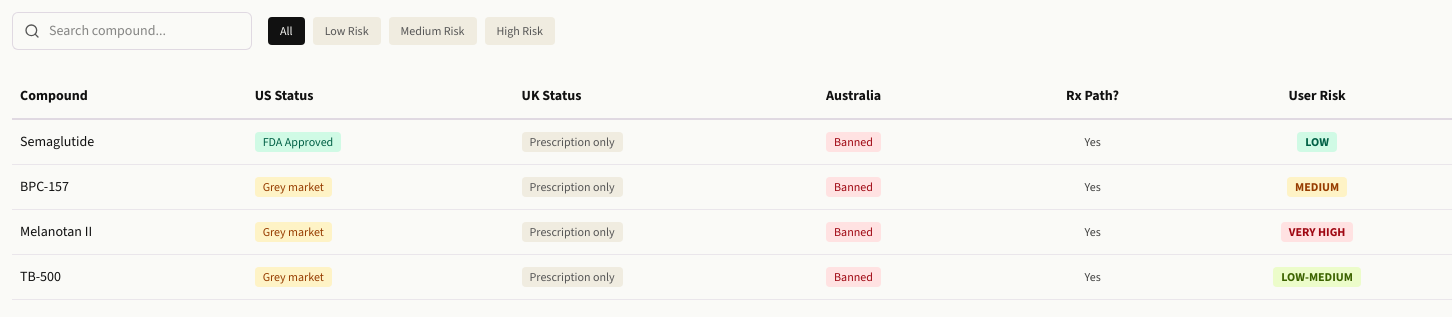
Scenario: PeptideLegalTable › searches by compound name and shows an empty state
The width and height of the screenshot is (1452, 317).
In the field with placeholder "Search compound...": (132, 31) [12,12,252,50], type "bpc"
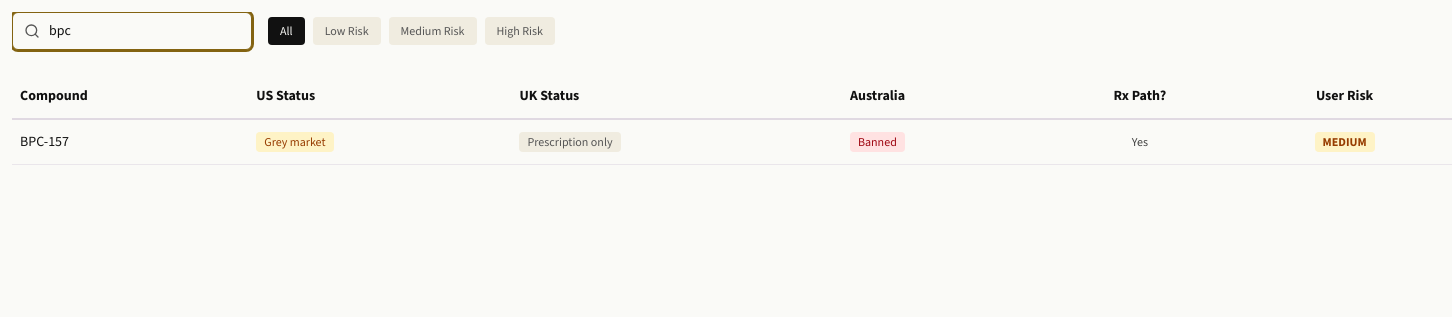
In the field with placeholder "Search compound...": (132, 31) [12,12,252,50], type "zzz"
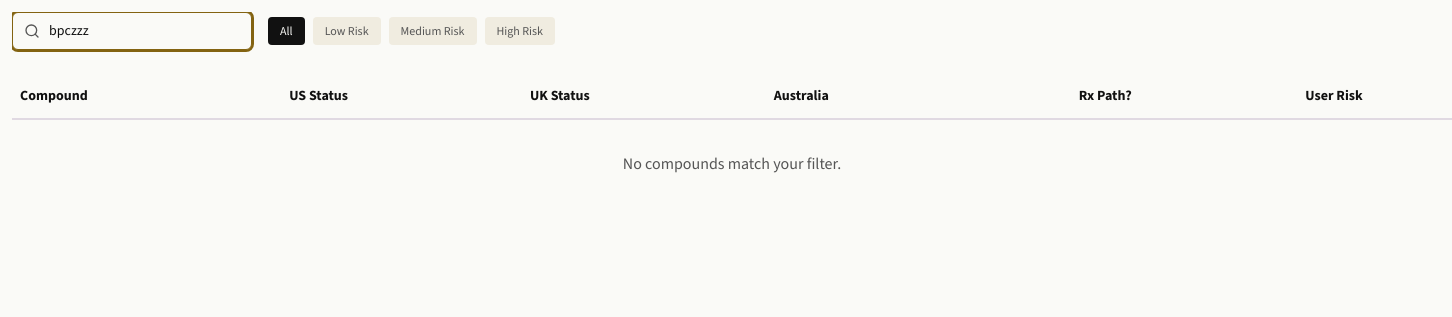
Expected: the text "No compounds match your filter." is shown, [623,153,841,174]
